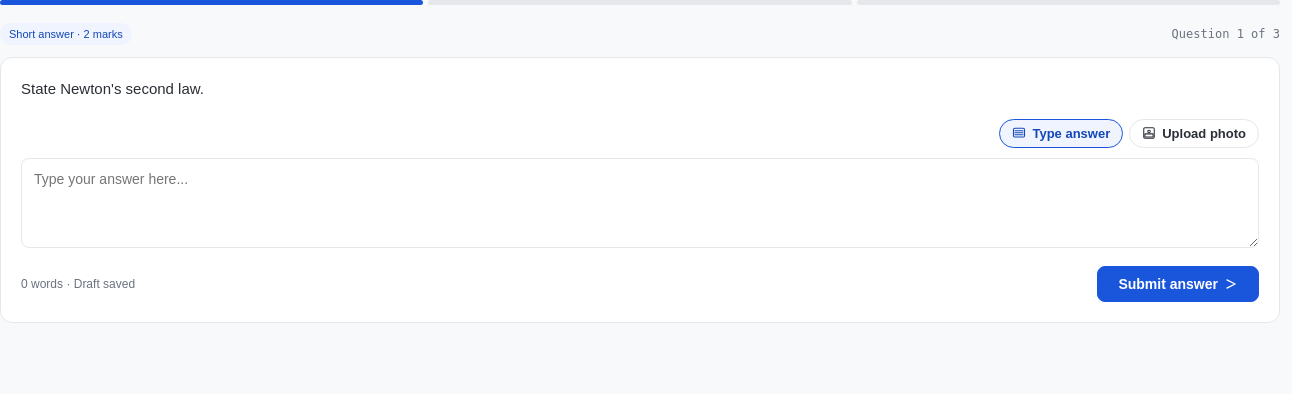
Test: a session that ends mid-quiz (FR-028) › shows a sign-in prompt and keeps the typed answer
In the text box with placeholder "Type your answer here...": (640, 202) [21,158,1259,248], type "half an answer"
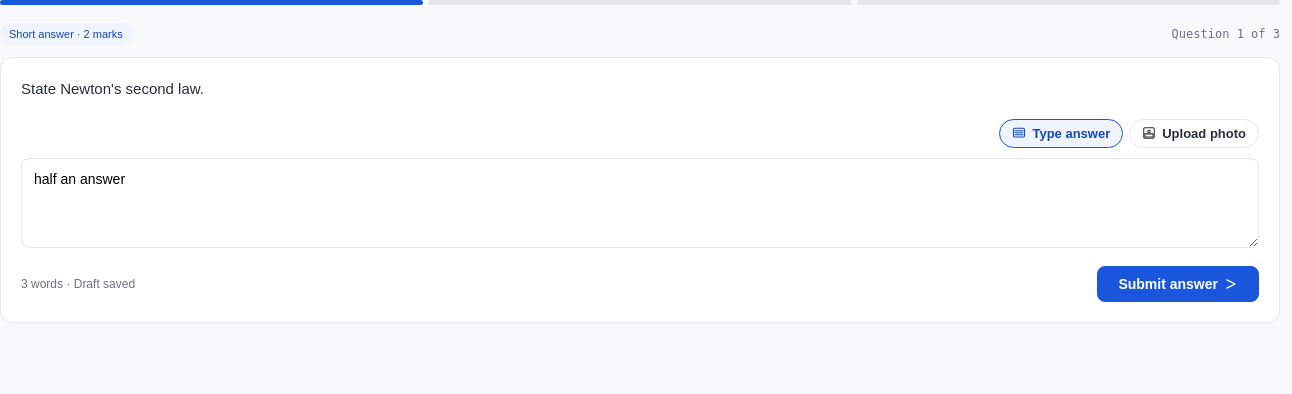
Click the button "Submit answer": (1178, 284) [1097,266,1259,302]
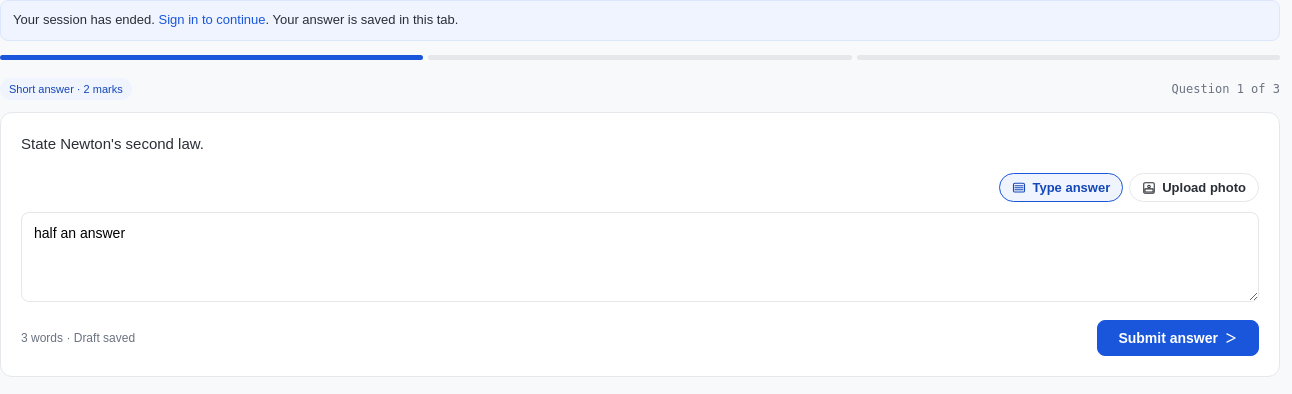
Expected: the text "Your session has ended" is shown, [13,12,158,27]
